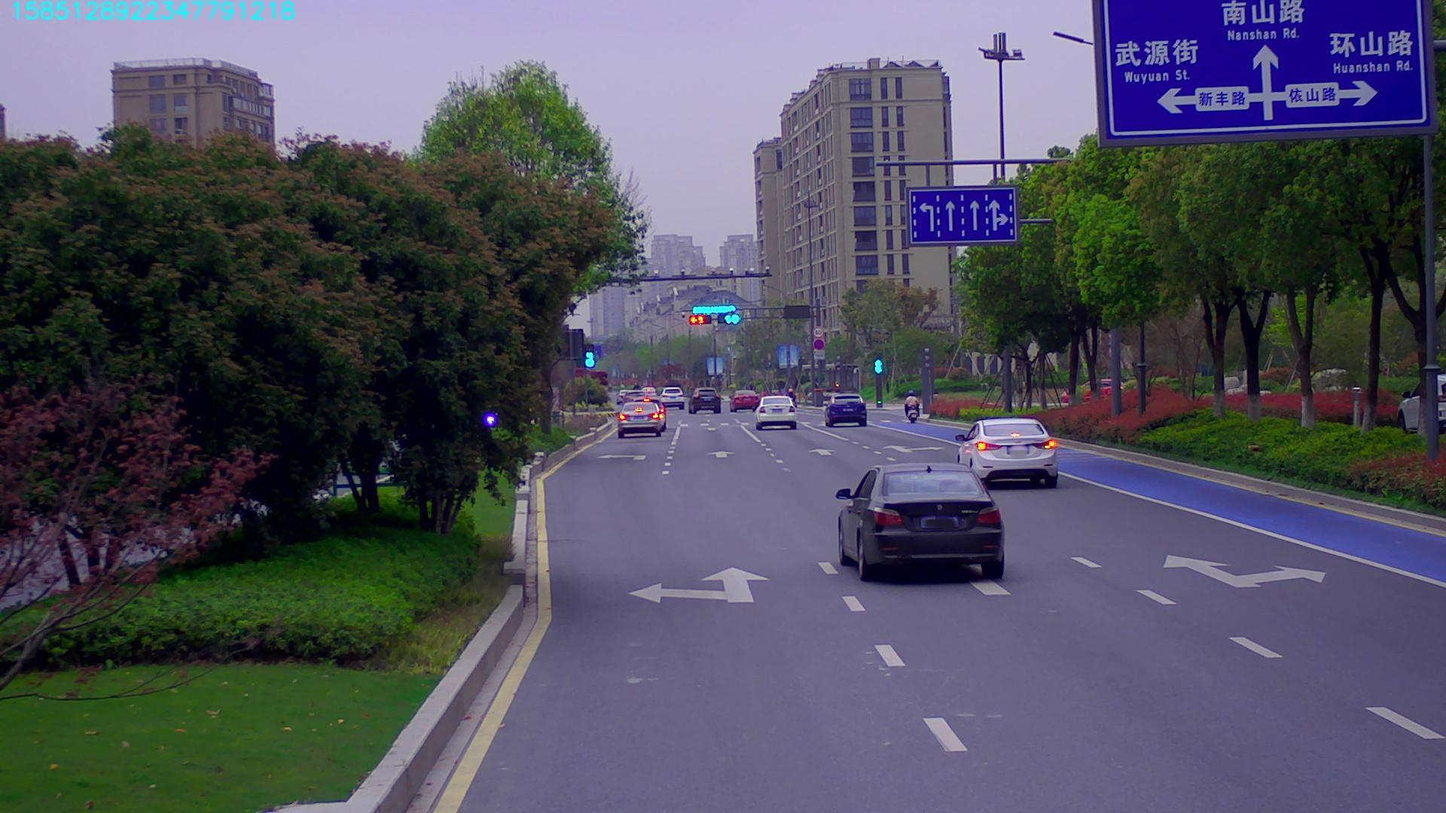green: (712, 312, 743, 325)
red: (691, 312, 712, 324)
wait_on: (691, 302, 737, 311)
